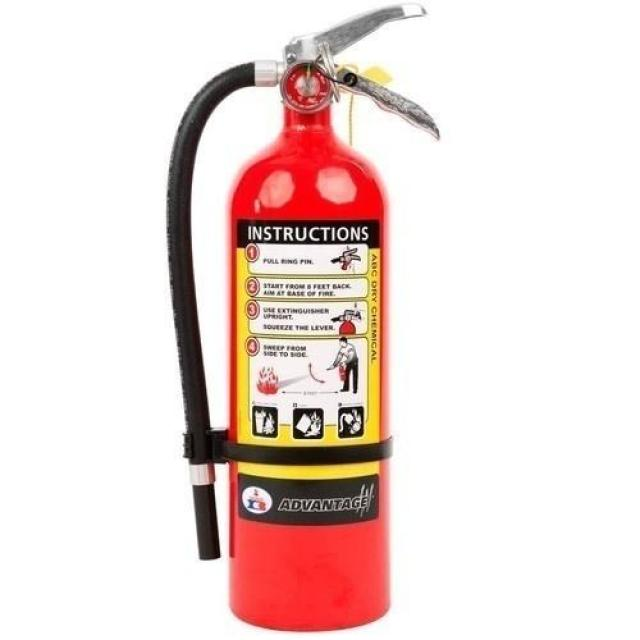fire_extinguisher: (156, 0, 451, 639)
